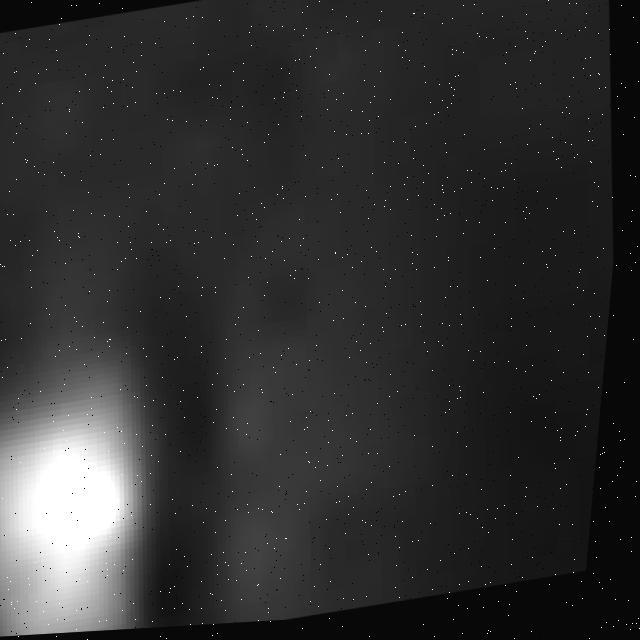person: (1, 248, 179, 640)
